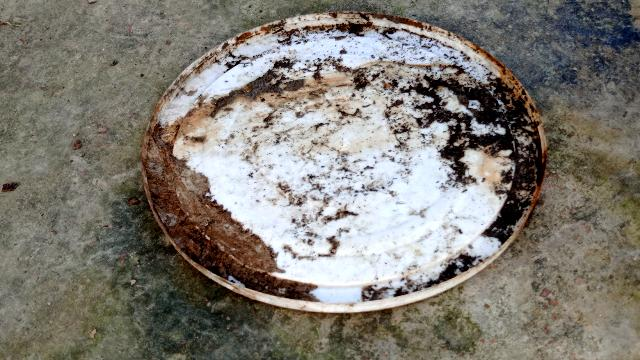hardplastic: (145, 11, 557, 313)
